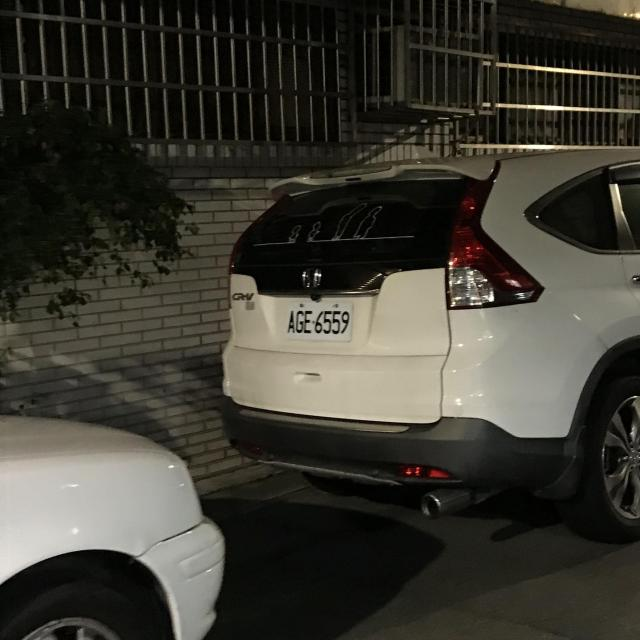W: (280, 296, 358, 346)
